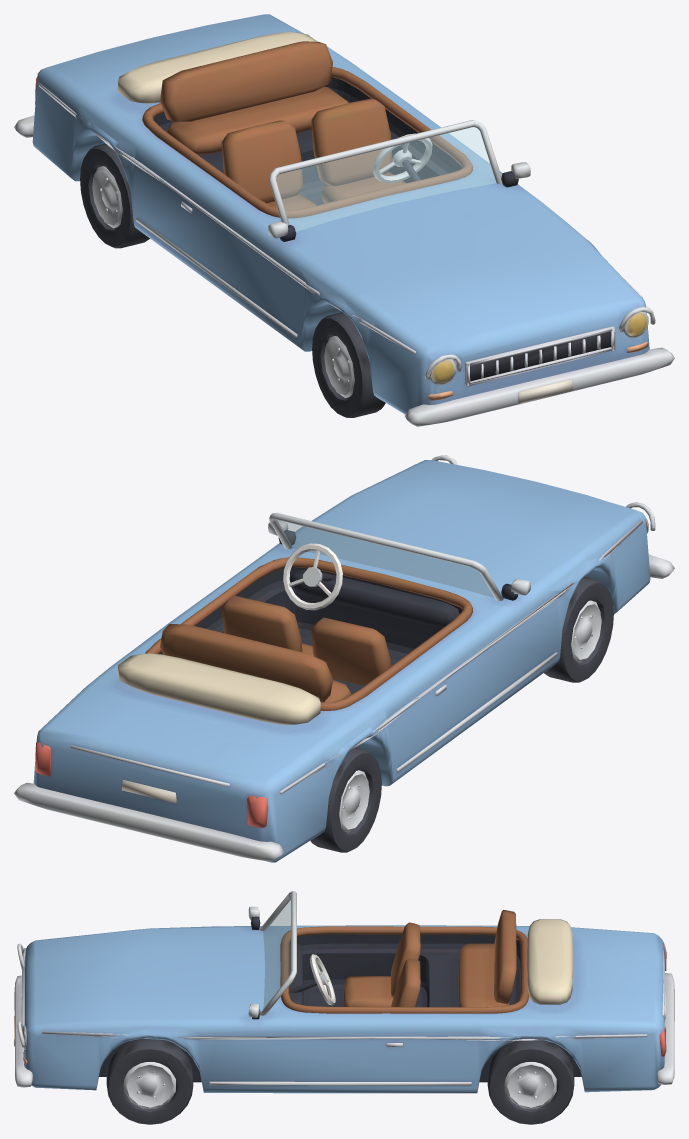
The model's file is n_1960conv.glb.
3 renders of one model, top to bottom at view 1: azimuth 30°, elevation 25°; view 2: azimuth 150°, elevation 25°; view 3: azimuth 270°, elevation 25°, orthographic. The views are drawn at different scales.
Visible parts, largest first — view 1: 1960s-convertible_body, 1960s-convertible_windows, 1960s-convertible_wheel_fr, 1960s-convertible_wheel_rr; view 2: 1960s-convertible_body, 1960s-convertible_wheel_rr, 1960s-convertible_windows, 1960s-convertible_wheel_fr; view 3: 1960s-convertible_body, 1960s-convertible_wheel_fl, 1960s-convertible_wheel_rl, 1960s-convertible_windows.
Part boxes in pixels (bbox=[...]): 1960s-convertible_body: bbox=[14, 14, 674, 426]; 1960s-convertible_windows: bbox=[276, 127, 495, 231]; 1960s-convertible_wheel_fr: bbox=[312, 312, 385, 417]; 1960s-convertible_wheel_rr: bbox=[80, 143, 149, 248]; 1960s-convertible_body: bbox=[14, 455, 674, 862]; 1960s-convertible_wheel_rr: bbox=[310, 747, 381, 852]; 1960s-convertible_windows: bbox=[276, 520, 494, 597]; 1960s-convertible_wheel_fr: bbox=[544, 577, 613, 682]; 1960s-convertible_body: bbox=[14, 891, 674, 1093]; 1960s-convertible_wheel_fl: bbox=[106, 1038, 193, 1124]; 1960s-convertible_wheel_rl: bbox=[487, 1040, 574, 1124]; 1960s-convertible_windows: bbox=[263, 897, 290, 1008].
Bounding box in the file's own units: 1.84 × 1.17 × 4.82.
3 materials, 1 textured.
